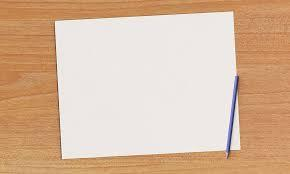plastic: (53, 11, 242, 160)
